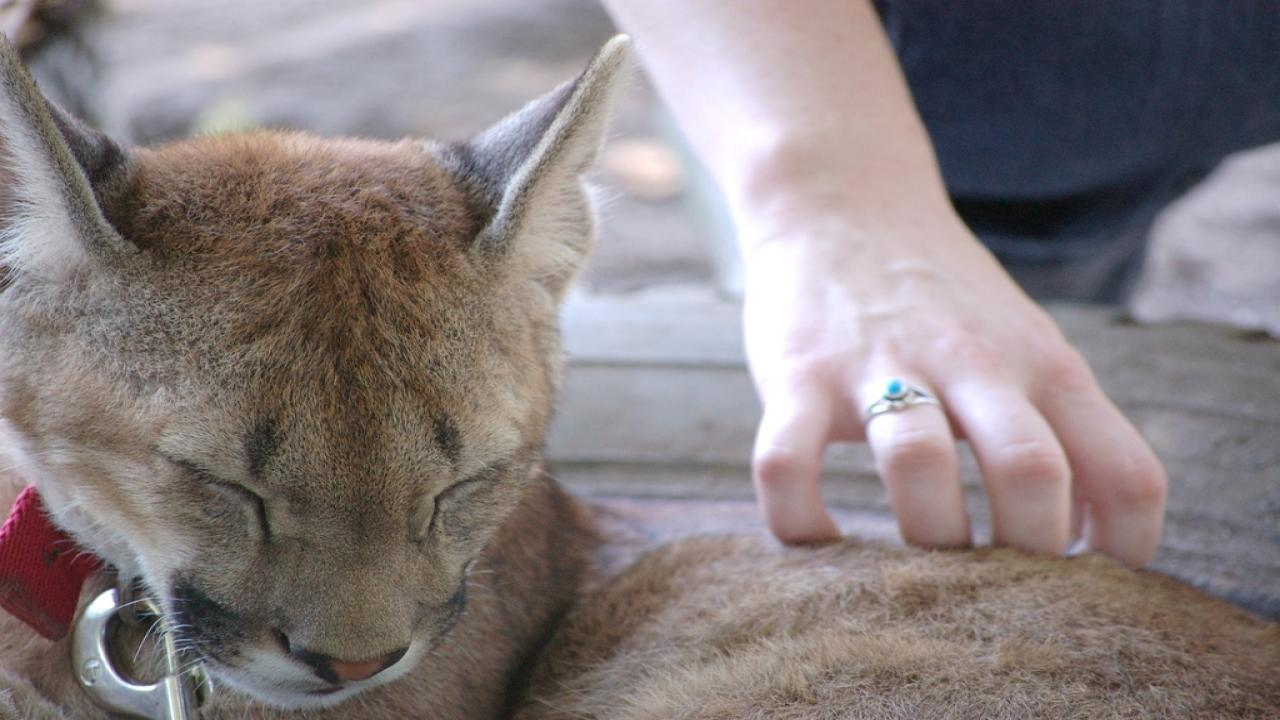ring: (861, 378, 945, 428)
